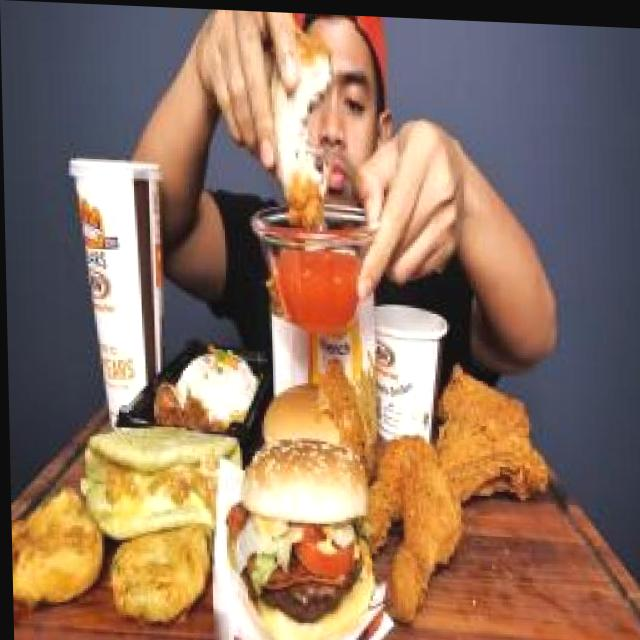AW cola: (57, 117, 180, 426)
black pepper rice bowl: (144, 330, 261, 449)
cheese burger: (256, 357, 353, 453)
fried chicken: (356, 332, 545, 614), (260, 12, 347, 230)
mango chicken pocket: (62, 405, 247, 551)
mozza burger: (216, 394, 383, 640)
perkedel: (96, 488, 219, 635), (8, 455, 109, 606)
